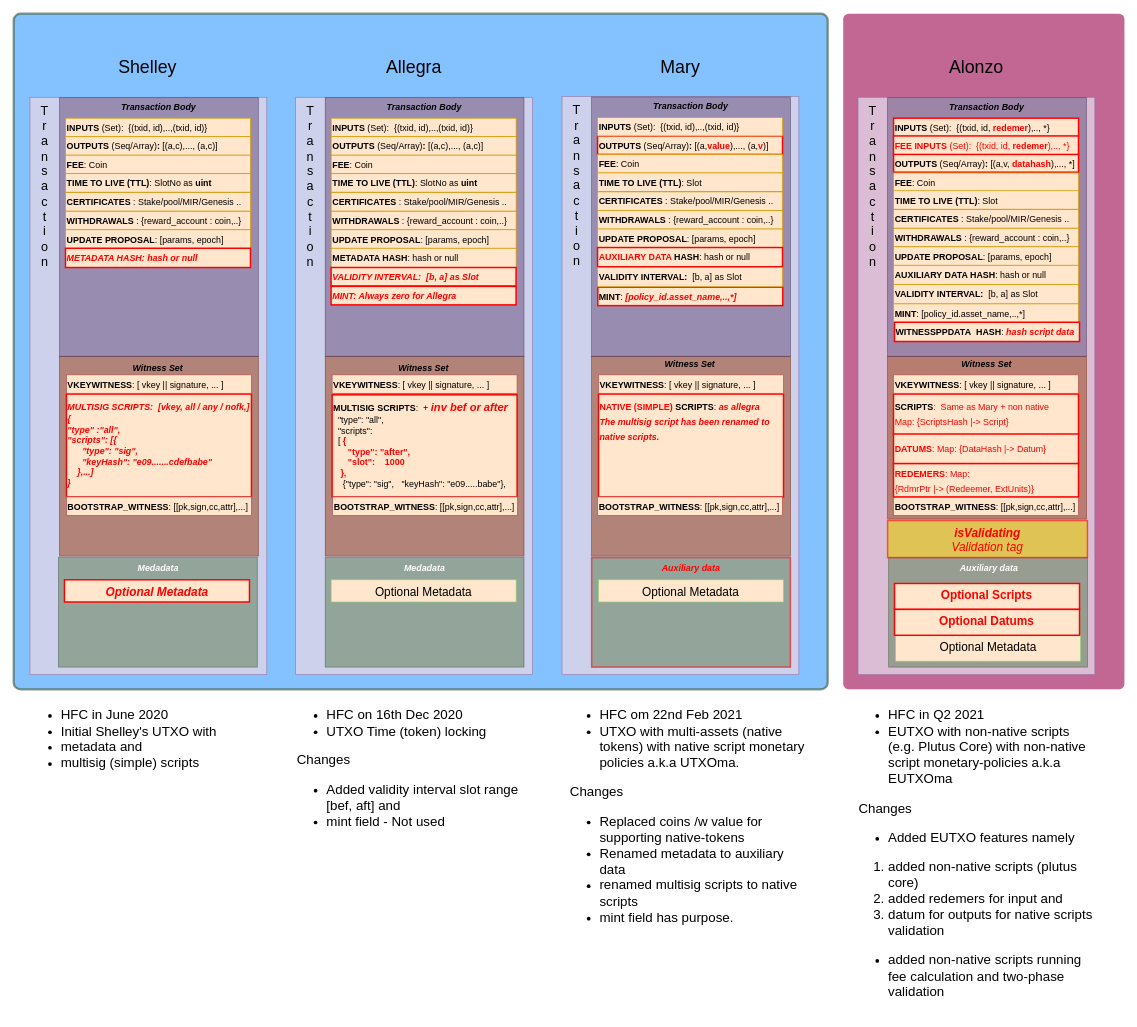
This 1137x1027 diagram has some shape labels left out. The box of each missing label's shape, as (x1, y1, x2, y2) in pixels:
Goguen ERA: (843, 13, 1124, 689)
Shelley ERA: (12, 12, 828, 690)
